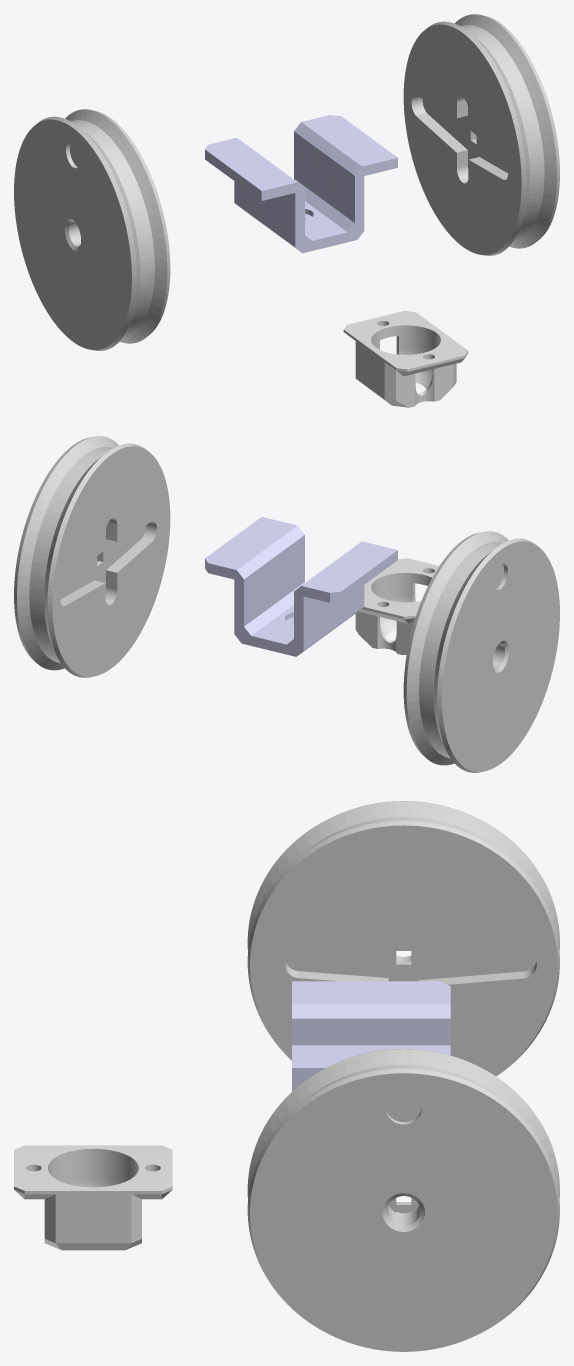
File: Wheels-starter.glb
The picture shows the model from 3 angles, top to bottom: view 1: azimuth 30°, elevation 25°; view 2: azimuth 150°, elevation 25°; view 3: azimuth 270°, elevation 25°; orthographic projection. The views are drawn at different scales.
Parts seen in each view (by area): view 1: Node1, Node3, Node2; view 2: Node1, Node3, Node2; view 3: Node1, Node2, Node3.
Boxes of the visible parts, <box> form: Node1: <box>14,14,559,350</box>; Node3: <box>205,115,397,253</box>; Node2: <box>343,311,468,407</box>; Node1: <box>14,436,559,772</box>; Node3: <box>205,517,397,656</box>; Node2: <box>355,558,438,654</box>; Node1: <box>247,801,559,1351</box>; Node2: <box>14,1145,172,1250</box>; Node3: <box>292,981,450,1091</box>.
Bounding box in the file's own units: 89.22 × 45.64 × 75.64.
